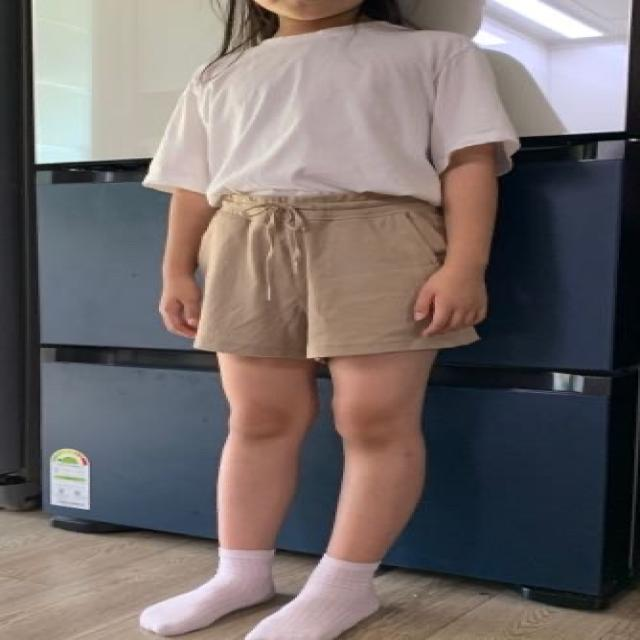shortpants: (187, 190, 479, 357)
shortsleeve: (138, 25, 526, 207)
